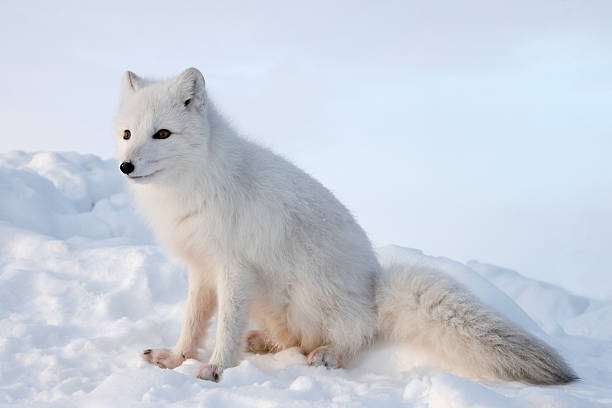arcticfox: (104, 92, 207, 212)
